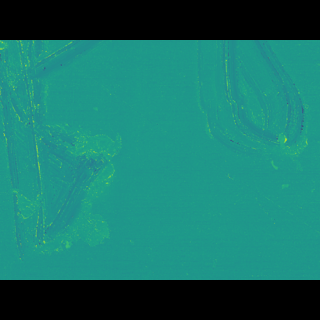Loch: (0, 69, 125, 238), (190, 69, 312, 162)
